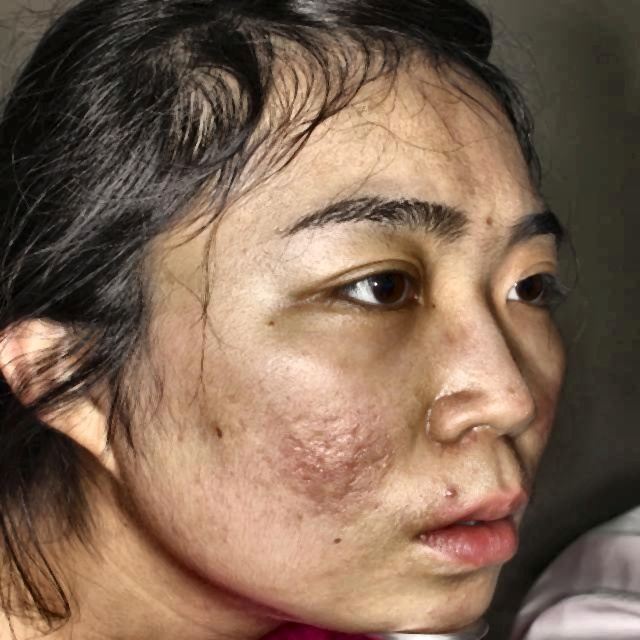comedone: (438, 476, 470, 502)
